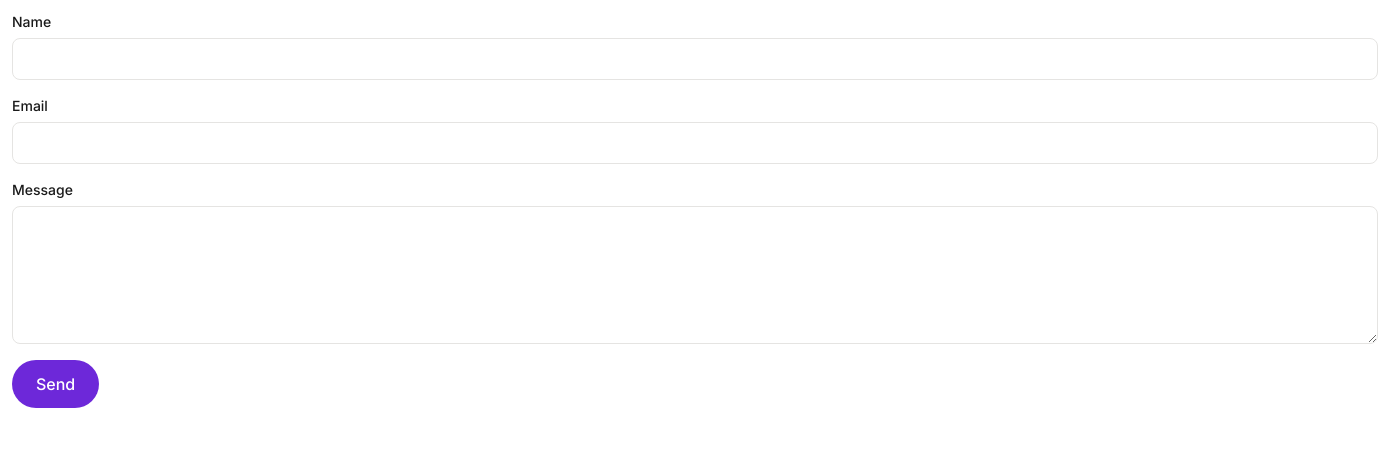
Test: ContactForm › shows an error message when the submit fails
The image size is (1390, 459).
Type "Ada" into the field labelled "Name" at point(695, 59), box [12, 38, 1378, 80]
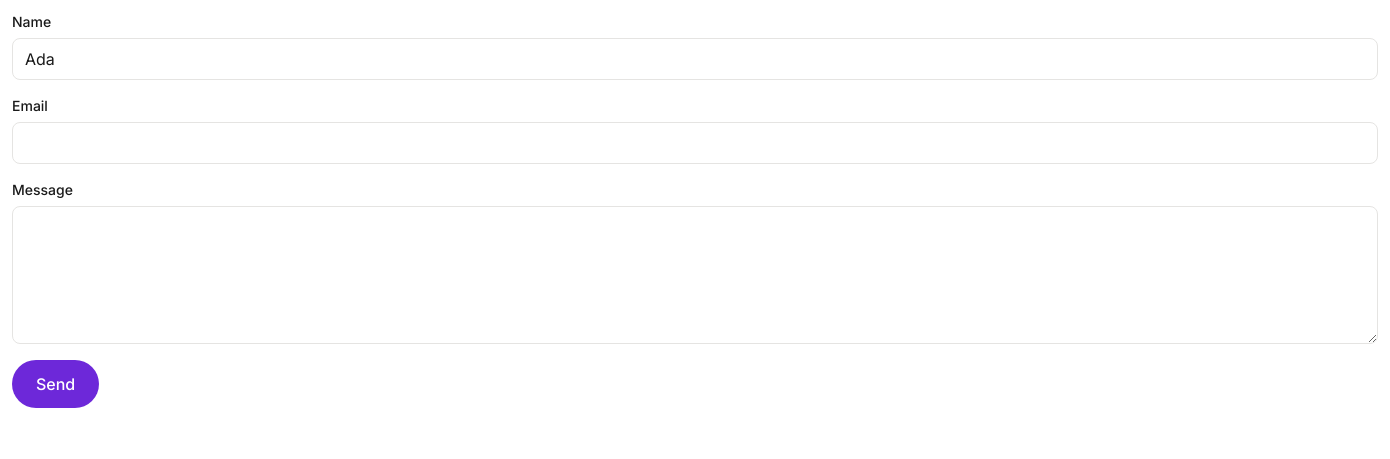
Type "ada@example.com" into the field labelled "Email" at point(695, 143), box [12, 122, 1378, 164]
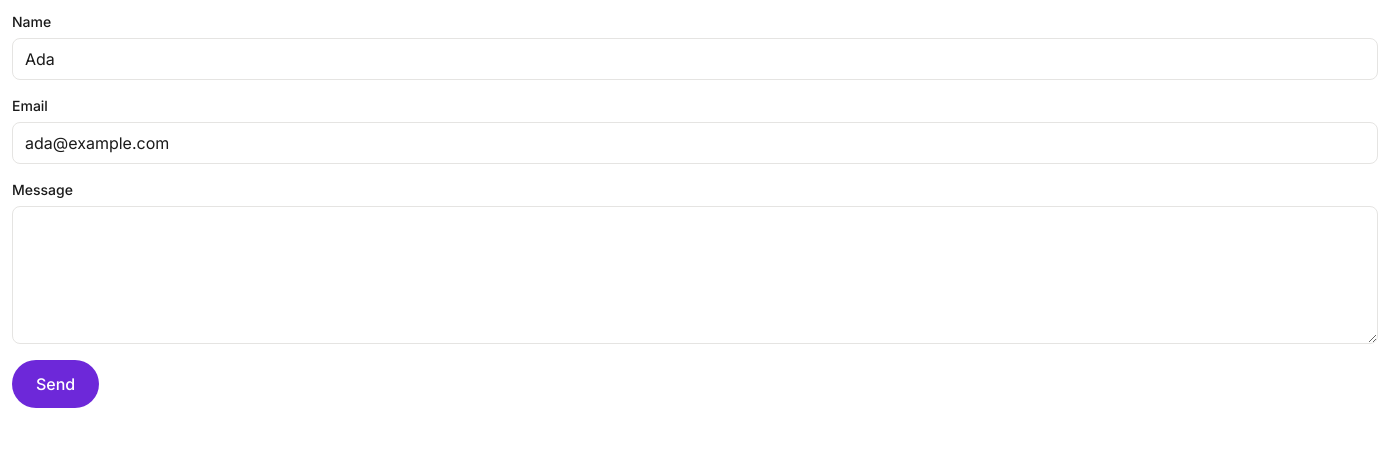
Type "Hello there" into the text box labelled "Message" at point(695, 275), box [12, 206, 1378, 344]
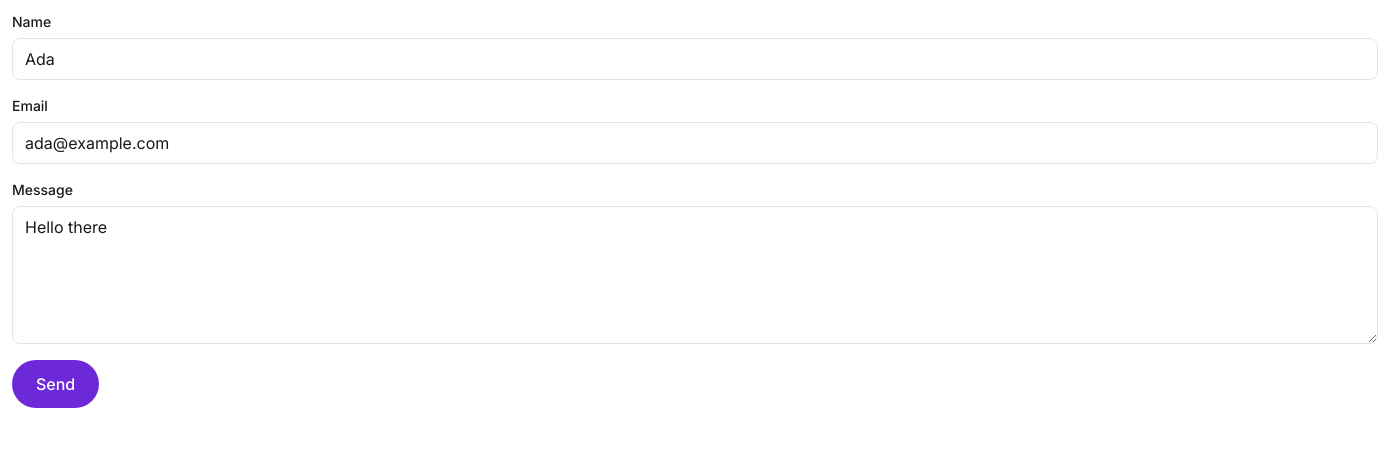
Click the button "Send" at point(56, 384), box [12, 360, 99, 408]
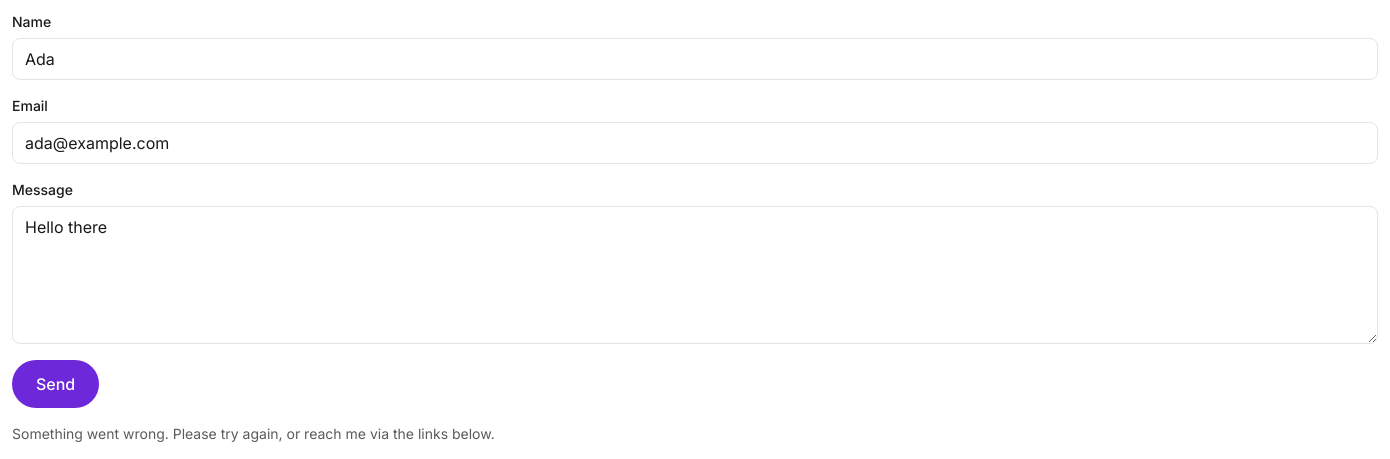
Result: the text "Something went wrong. Please try again, or reach me via the links below." is shown at [12, 425, 495, 442]
